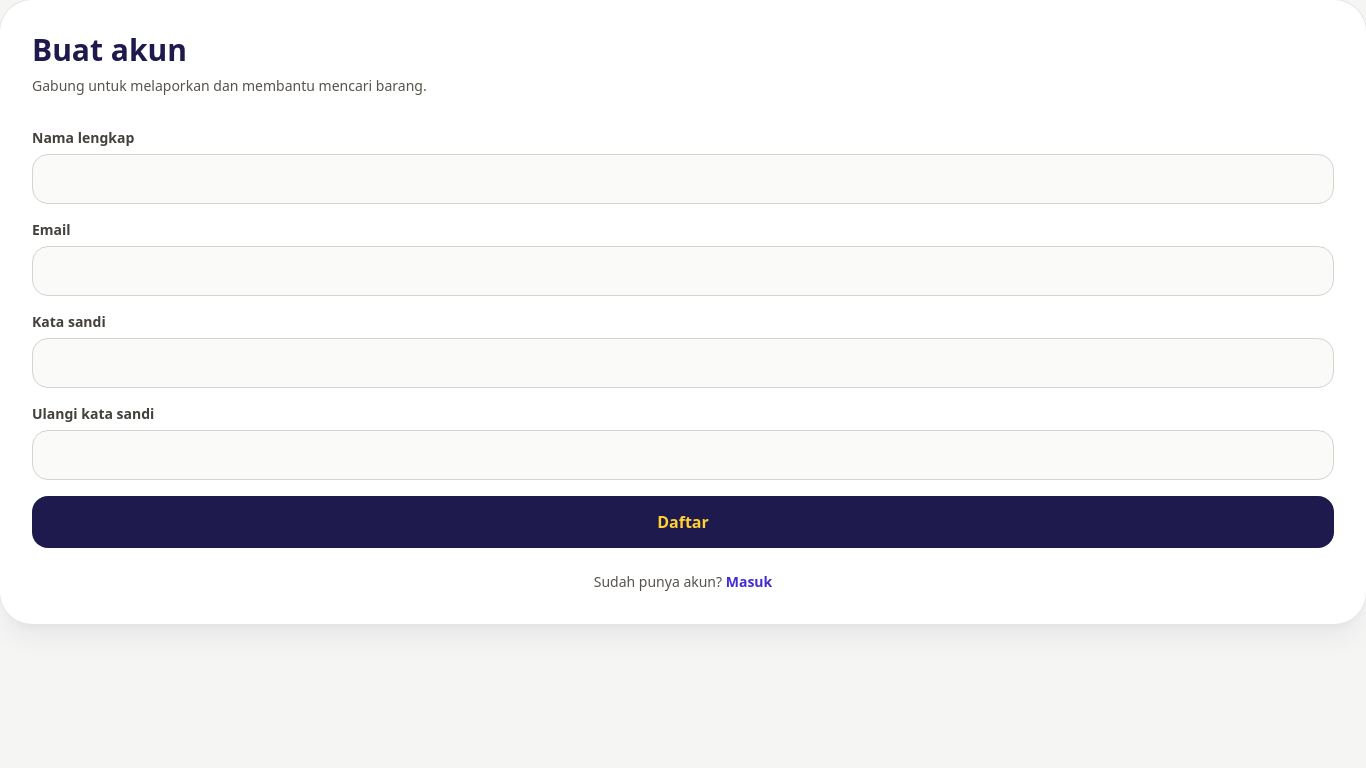
Scenario: RegisterPage › menolak input tidak valid
Type "ab" into the field labelled "Nama lengkap" at coordinates (683, 179), box [32,154,1334,204]
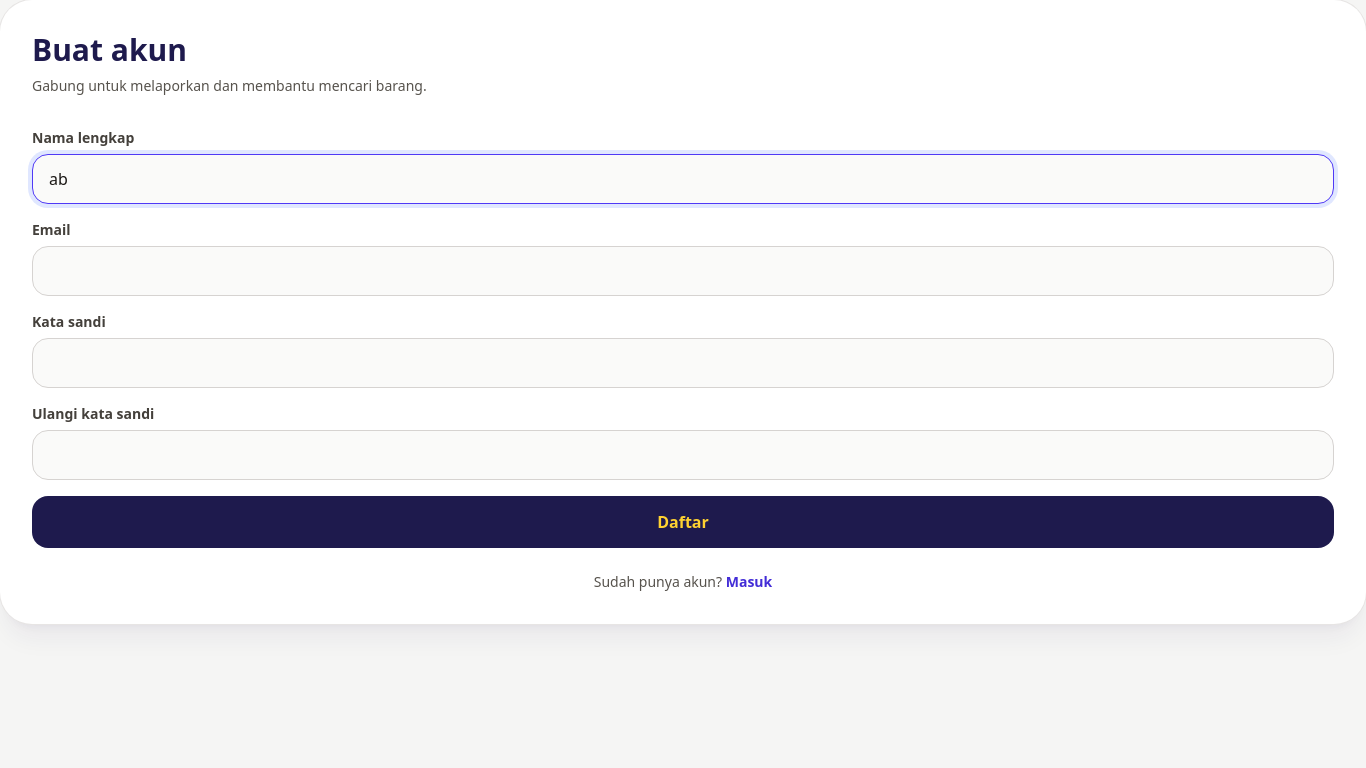
Type "x" into the field labelled "Email" at coordinates (683, 271), box [32,246,1334,296]
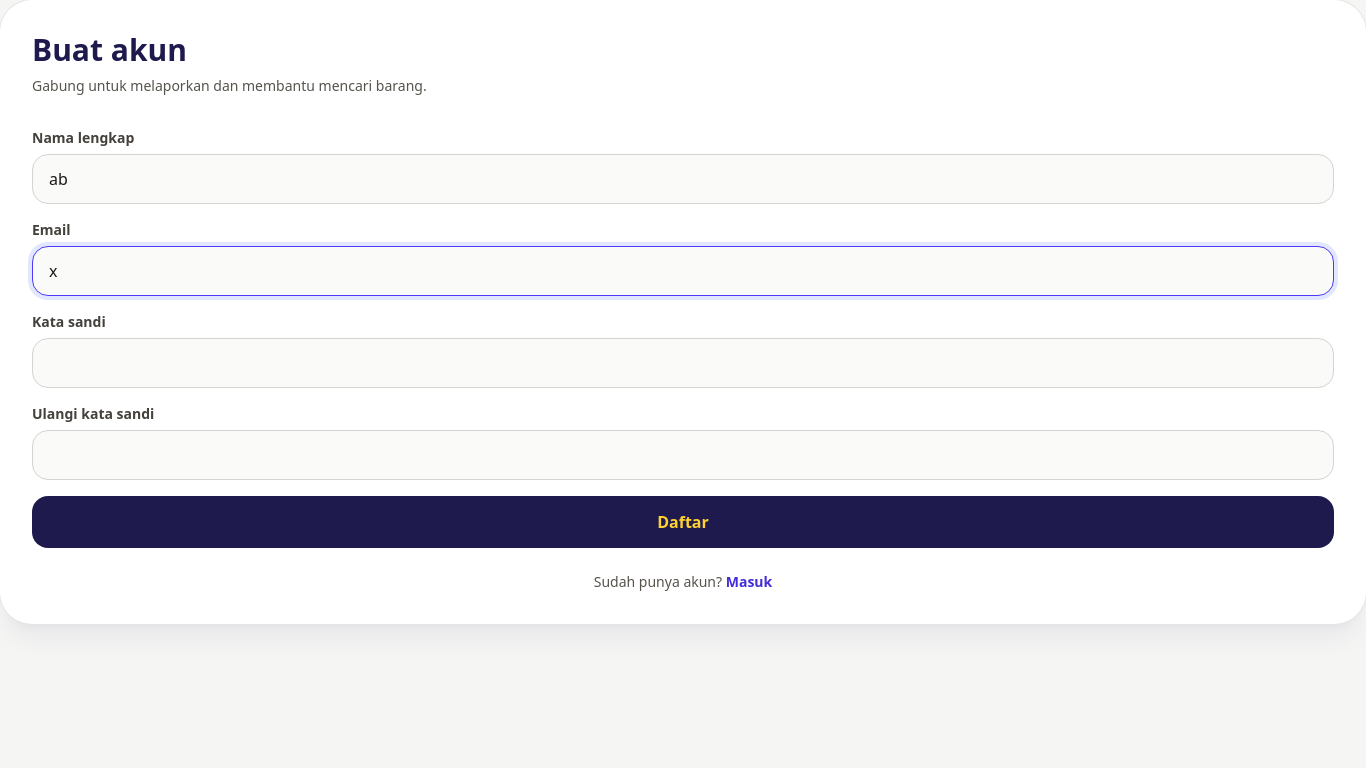
Type "123" into the password field labelled "Kata sandi" at coordinates (683, 363), box [32,338,1334,388]
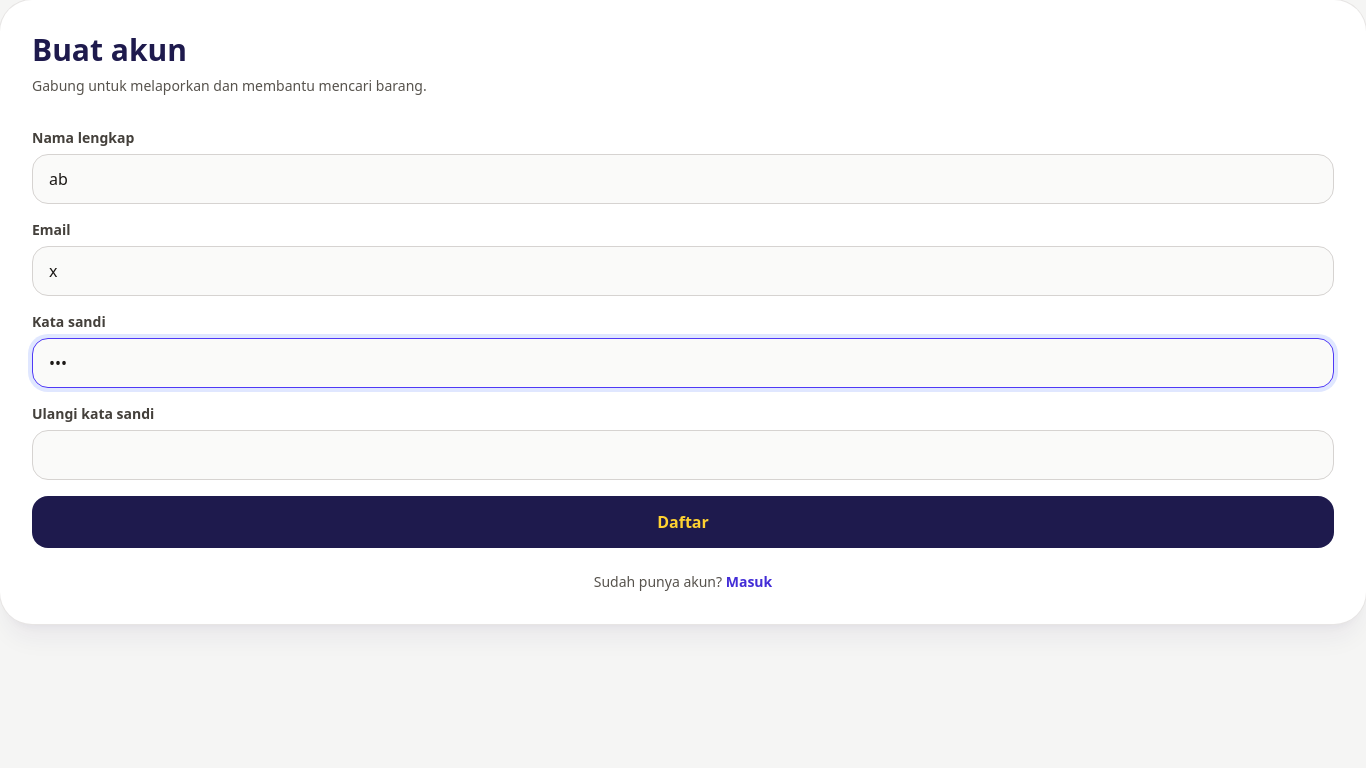
Type "321" into the password field labelled "Ulangi kata sandi" at coordinates (683, 455), box [32,430,1334,480]
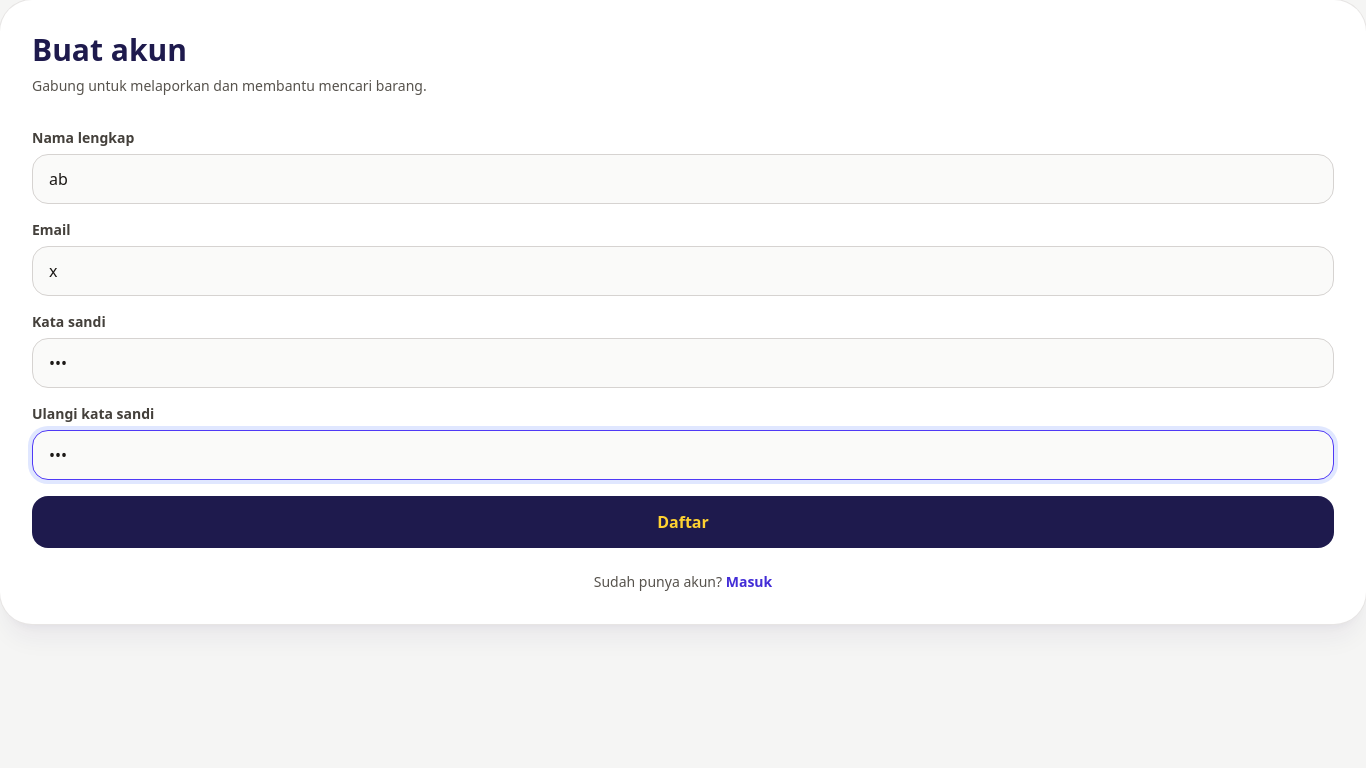
Click the button "Daftar" at coordinates (683, 522), box [32,496,1334,548]
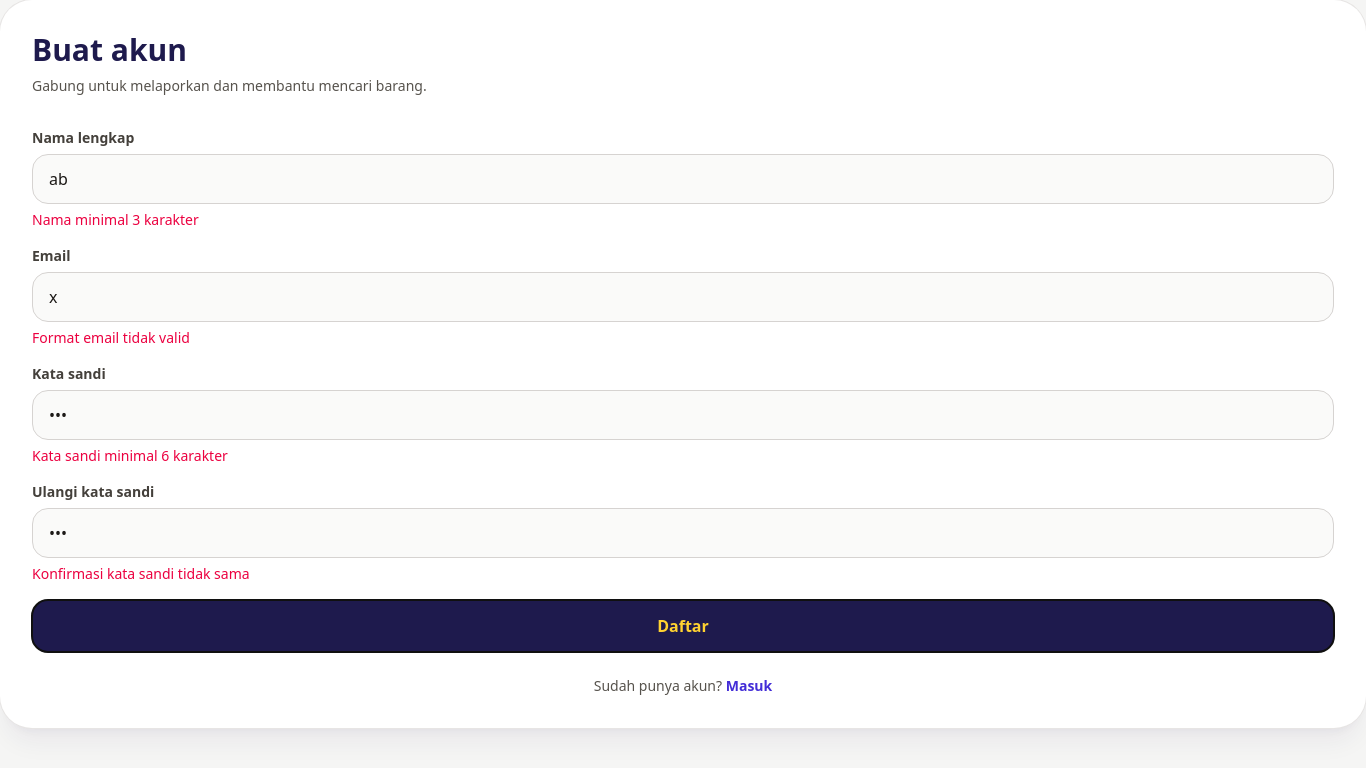
Check: the text "Nama minimal 3 karakter" is shown, box [32,210,199,229]
Check: the text "Format email tidak valid" is shown, box [32,328,190,347]
Check: the text "Kata sandi minimal 6 karakter" is shown, box [32,446,228,465]
